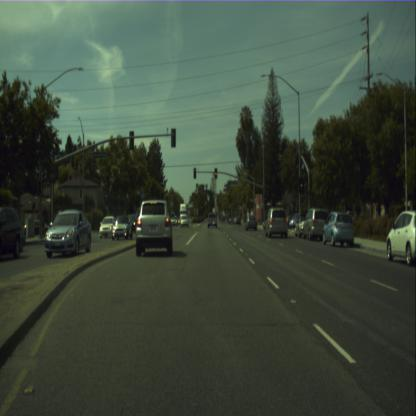Red: (194, 168, 196, 178)
Yellow: (298, 178, 304, 192), (263, 193, 266, 202), (214, 168, 216, 178)
